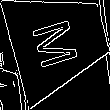M_E: (31, 12, 87, 70)
